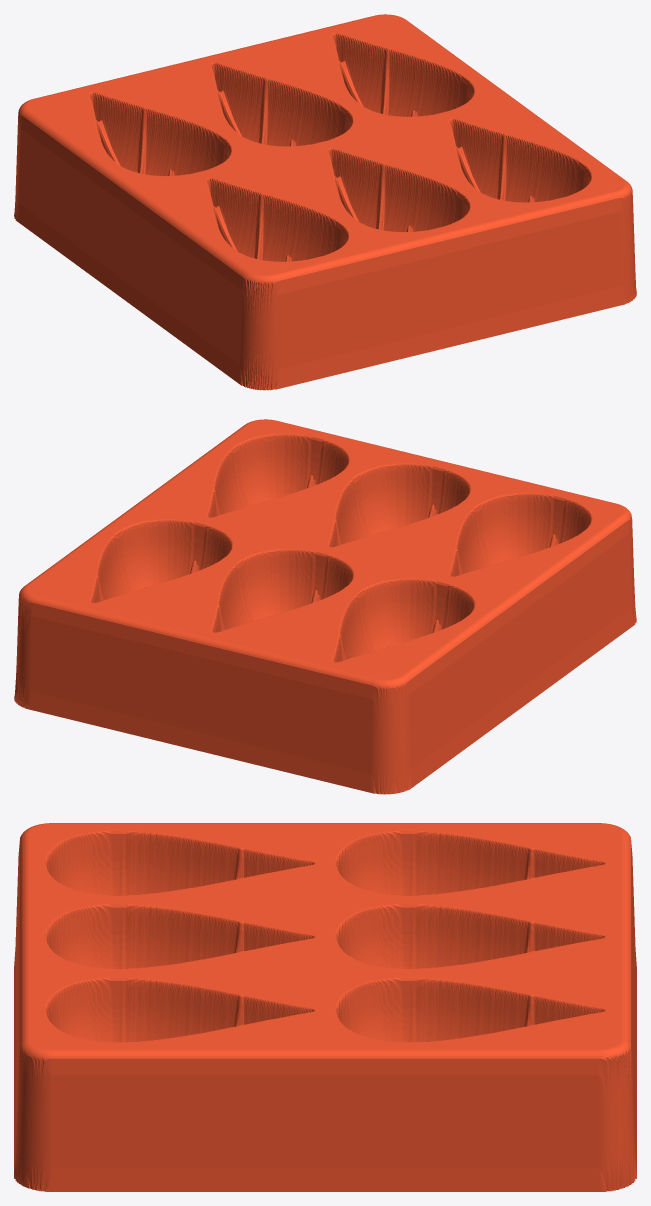
File: mold.glb
The picture shows the model from 3 angles, top to bottom: view 1: azimuth 30°, elevation 25°; view 2: azimuth 150°, elevation 25°; view 3: azimuth 270°, elevation 25°; orthographic projection. The views are drawn at different scales.
Visible parts, largest first — view 1: geometry_0; view 2: geometry_0; view 3: geometry_0.
Boxes of the visible parts, x1,y1,x2,y2 form: geometry_0: (14, 14, 636, 390); geometry_0: (14, 419, 636, 794); geometry_0: (14, 823, 636, 1191).
Size of the model in its own units: 0.1351 by 0.0359 by 0.1492.
